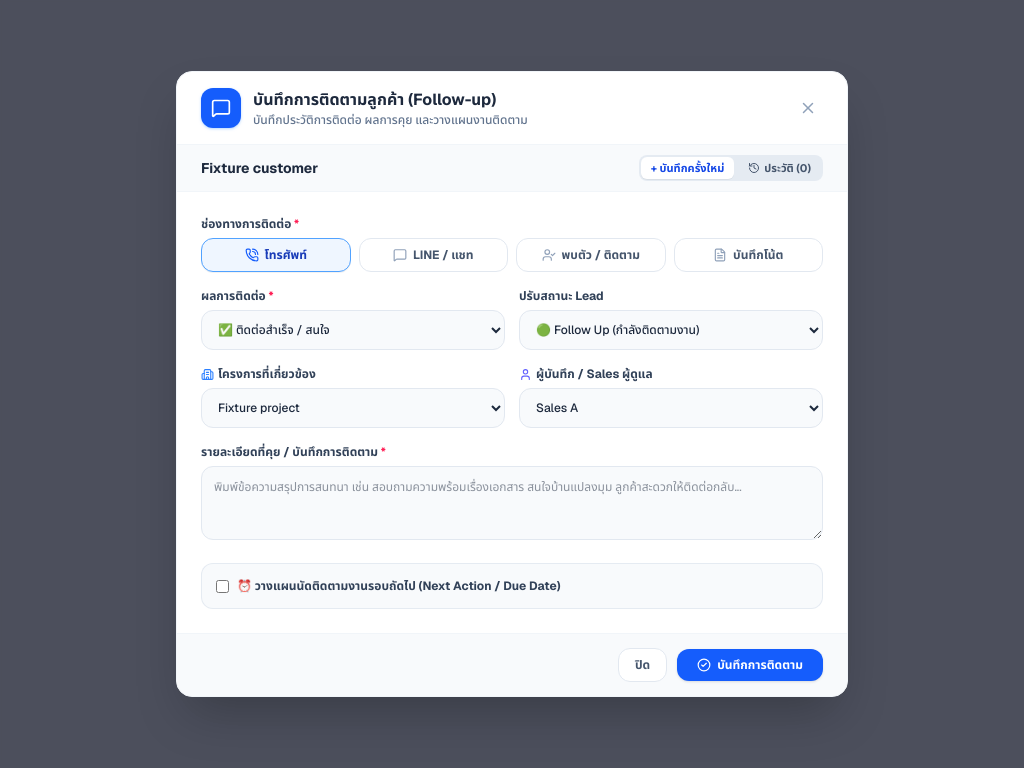
Test: pre-booking workflow through the actual forms (fixture requests only) › blocks Lost if fresh booking is discovered after opening an old Visit form
Select "❌ Lost — ยุติการซื้อ / ไม่สนใจ (ยังไม่จอง)" in the dropdown named "สถานะลูกค้า" at (671, 330), box [519,310,823,350]
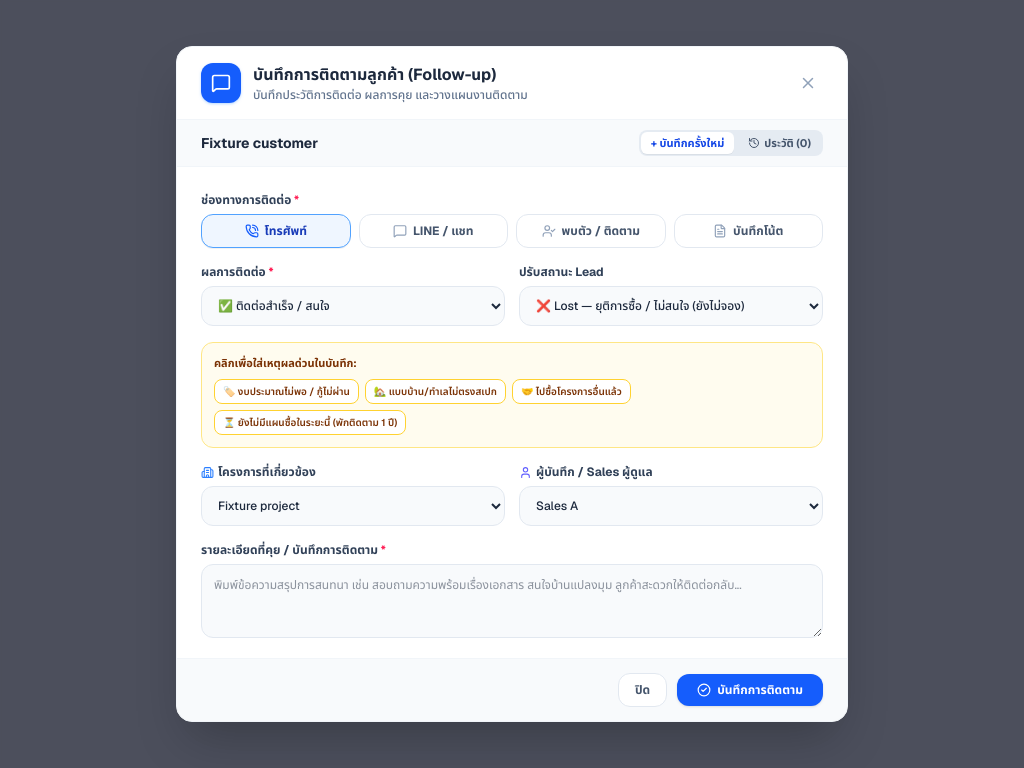
Replace the text in the text box with placeholder "พิมพ์ข้อความสรุปการสนทนา" with "customer not interested" at (512, 601), box [201,564,823,638]
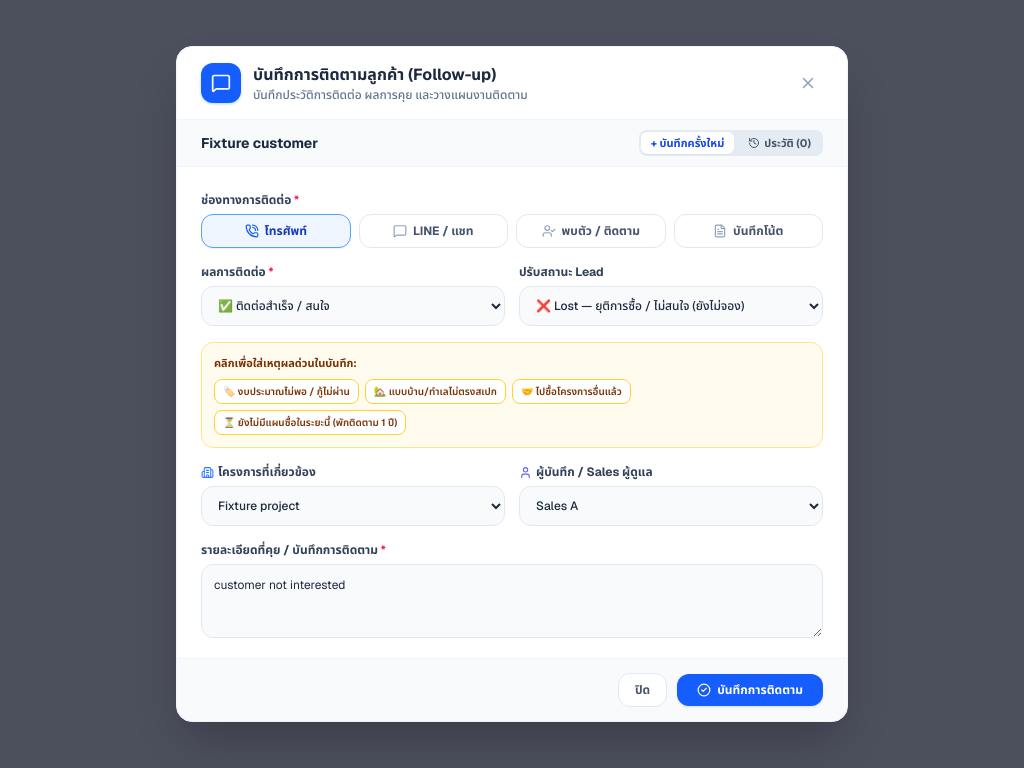
Submit the form with id "followup-form", box [201,192,823,707]
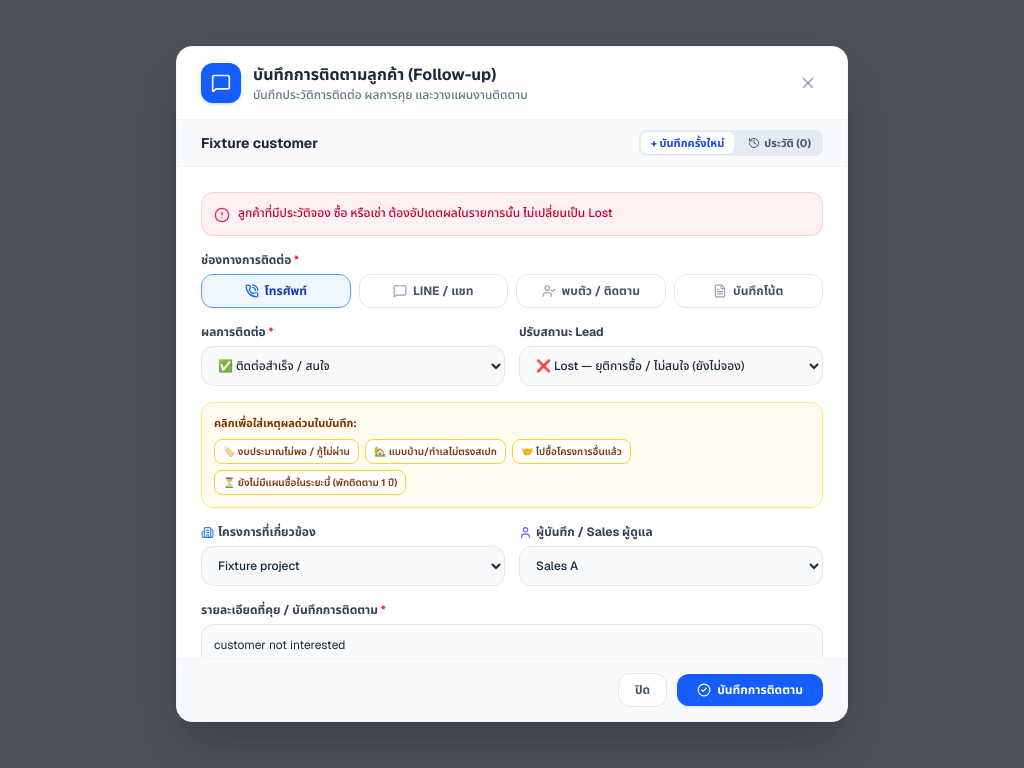
Expected: the text "ไม่เปลี่ยนเป็น Lost" is shown, [238,205,613,221]
